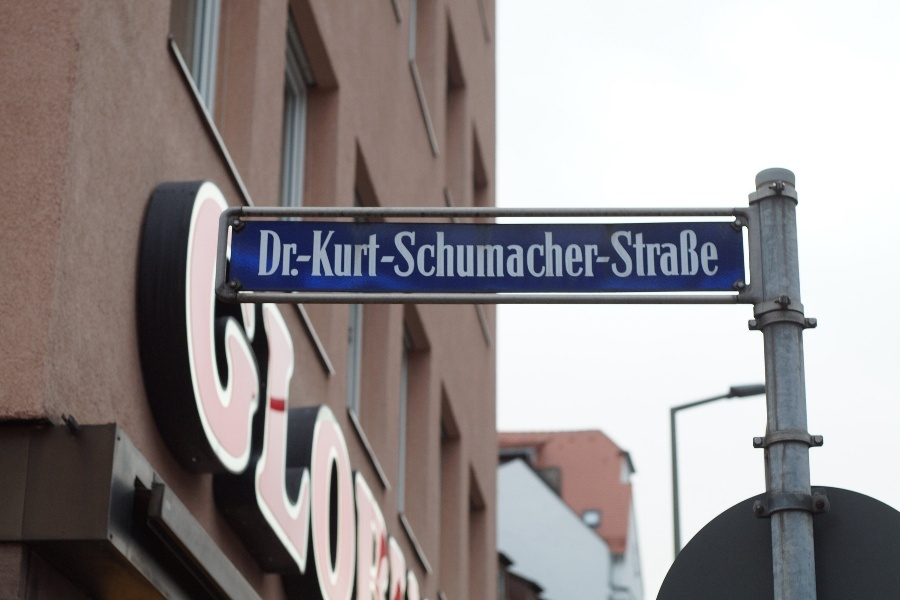text: (161, 54, 176, 599), (177, 54, 192, 599), (193, 54, 208, 599), (209, 54, 224, 599), (225, 54, 240, 599), (241, 54, 256, 599), (257, 54, 272, 599), (273, 54, 288, 599), (289, 54, 304, 599), (305, 54, 320, 599), (321, 54, 336, 599), (337, 54, 352, 599), (353, 54, 368, 599), (369, 54, 384, 599), (385, 54, 400, 599), (401, 54, 416, 599), (417, 54, 425, 599), (156, 54, 160, 599), (705, 229, 721, 279), (273, 229, 288, 279), (289, 229, 304, 279), (305, 229, 320, 279), (321, 229, 336, 279), (337, 229, 352, 279), (353, 229, 368, 279), (369, 229, 384, 279), (385, 229, 400, 279), (401, 229, 416, 279), (417, 229, 432, 279), (433, 229, 448, 279), (449, 229, 464, 279), (465, 229, 480, 279), (481, 229, 496, 279), (497, 229, 512, 279), (513, 229, 528, 279), (529, 229, 544, 279), (545, 229, 560, 279), (561, 229, 576, 279), (577, 229, 592, 279), (593, 229, 608, 279), (609, 229, 624, 279), (625, 229, 640, 279), (641, 229, 656, 279), (657, 229, 672, 279), (673, 229, 688, 279), (689, 229, 704, 279), (258, 229, 272, 279)
